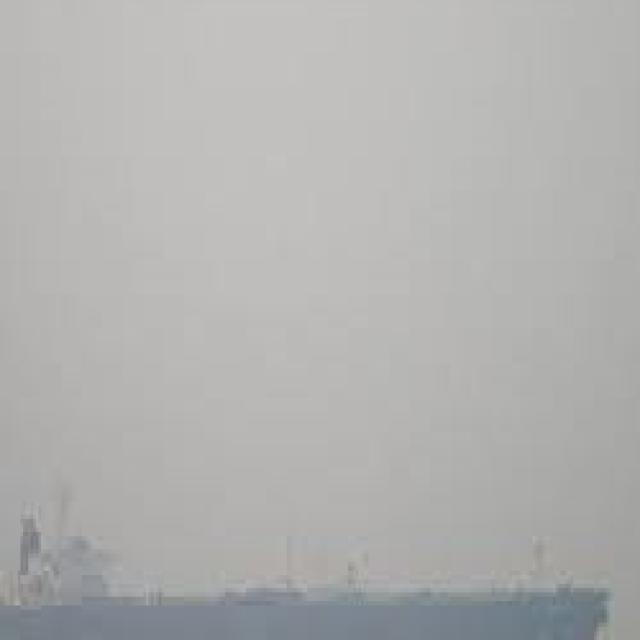cargoship: (0, 484, 617, 640)
